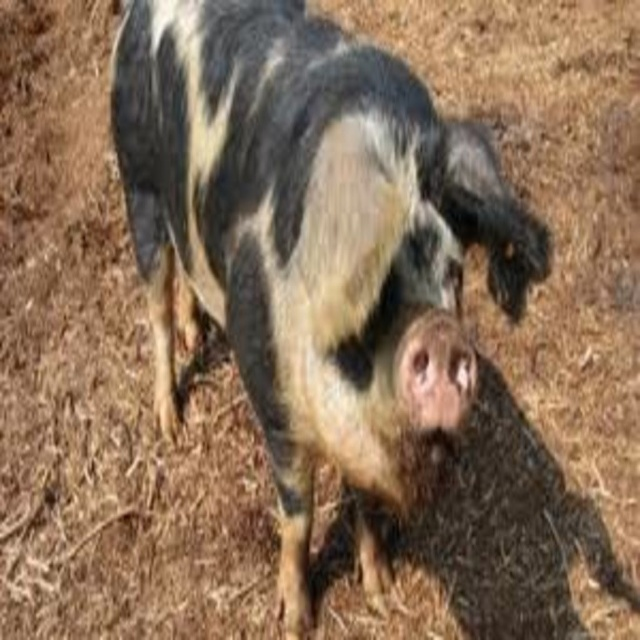Pig: (109, 0, 550, 636)
